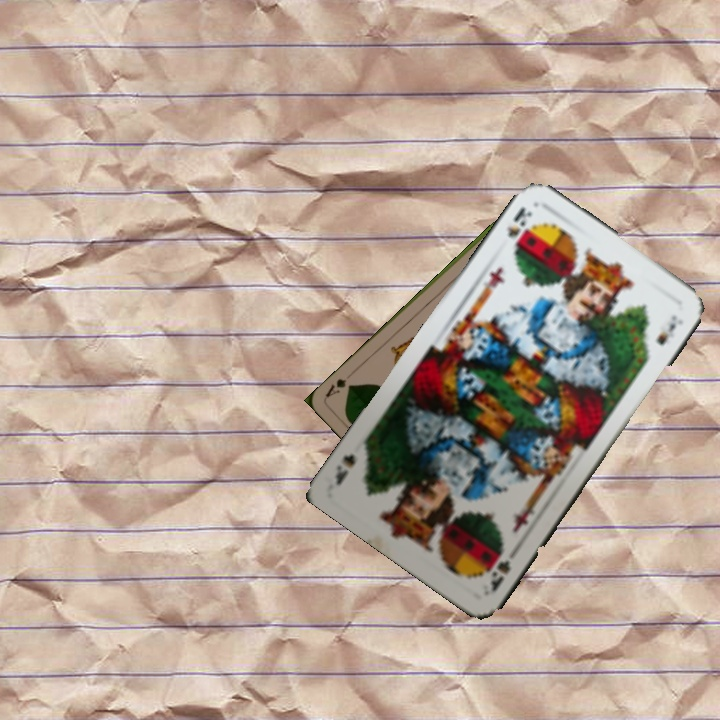SK: (484, 544, 521, 595), (502, 203, 535, 241)
